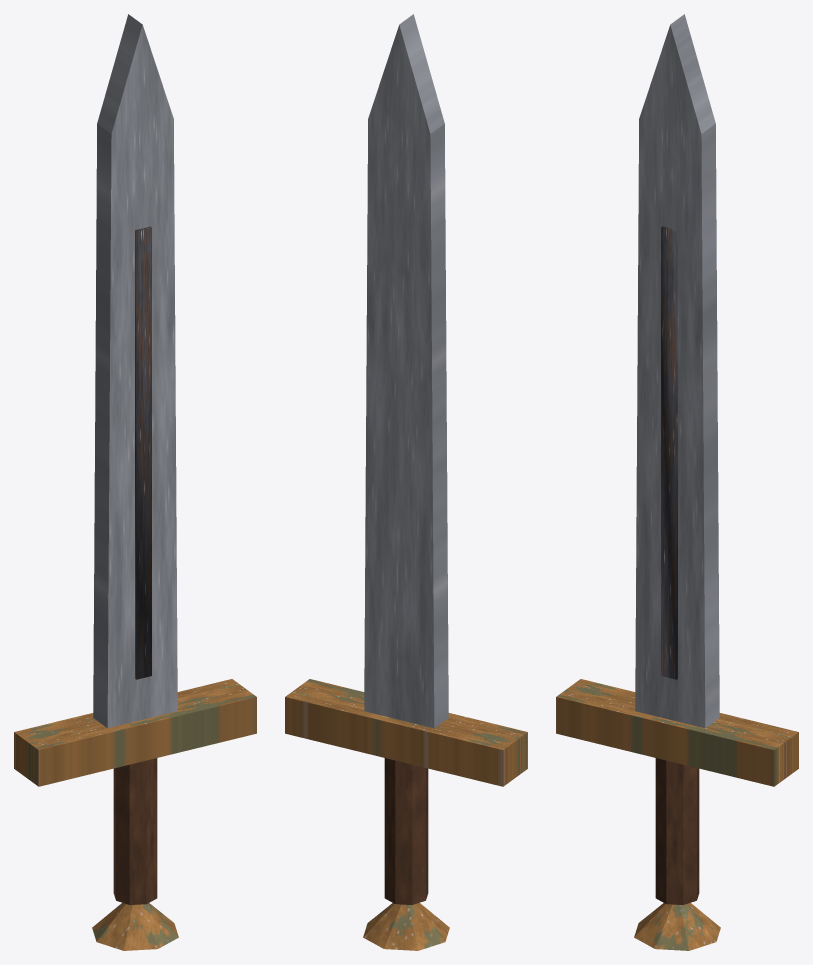
Rendered from rival_alder_sword.obj.
3 renders of one model, left to right at view 1: azimuth 30°, elevation 25°; view 2: azimuth 150°, elevation 25°; view 3: azimuth 330°, elevation 25°, orthographic.
Parts seen in each view (by area): view 1: rival_alder_sword; view 2: rival_alder_sword; view 3: rival_alder_sword.
Part boxes in pixels (left/top/right/bottom): rival_alder_sword: left=14, top=14, right=256, bottom=950; rival_alder_sword: left=285, top=14, right=527, bottom=950; rival_alder_sword: left=556, top=14, right=798, bottom=950.
Size of the model in its own units: 0.35 by 1.42 by 0.125.
